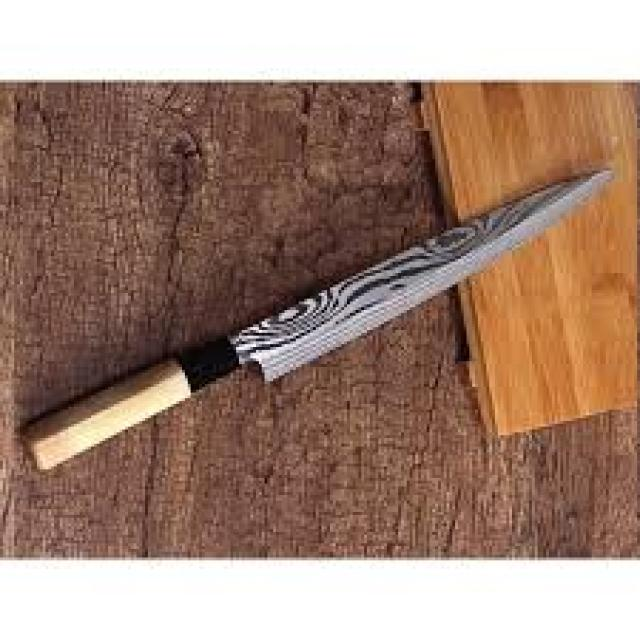knife: (50, 148, 607, 439)
